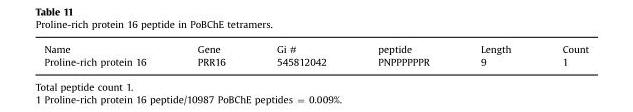table: (43, 42, 588, 67)
table column: (43, 42, 171, 67), (351, 42, 454, 67), (250, 42, 351, 67), (454, 42, 536, 67), (171, 42, 250, 67), (536, 42, 588, 67)
table row: (43, 54, 588, 67), (43, 42, 588, 54)
